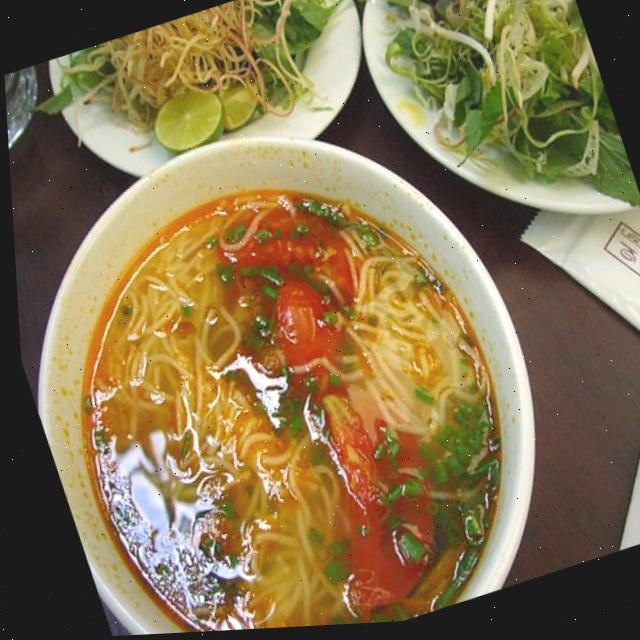面条主食: (4, 54, 596, 640)
